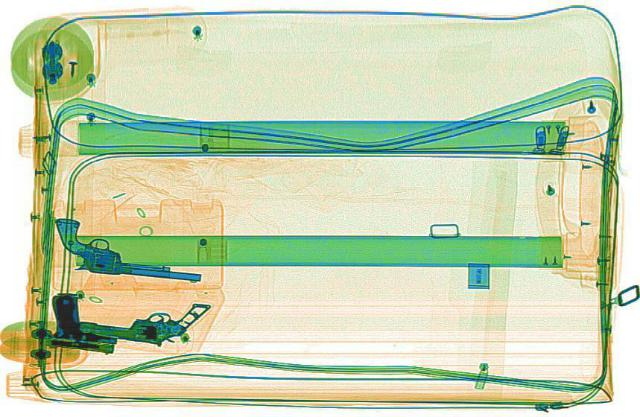Gun: (45, 215, 209, 279), (70, 283, 212, 350), (39, 290, 117, 352)
